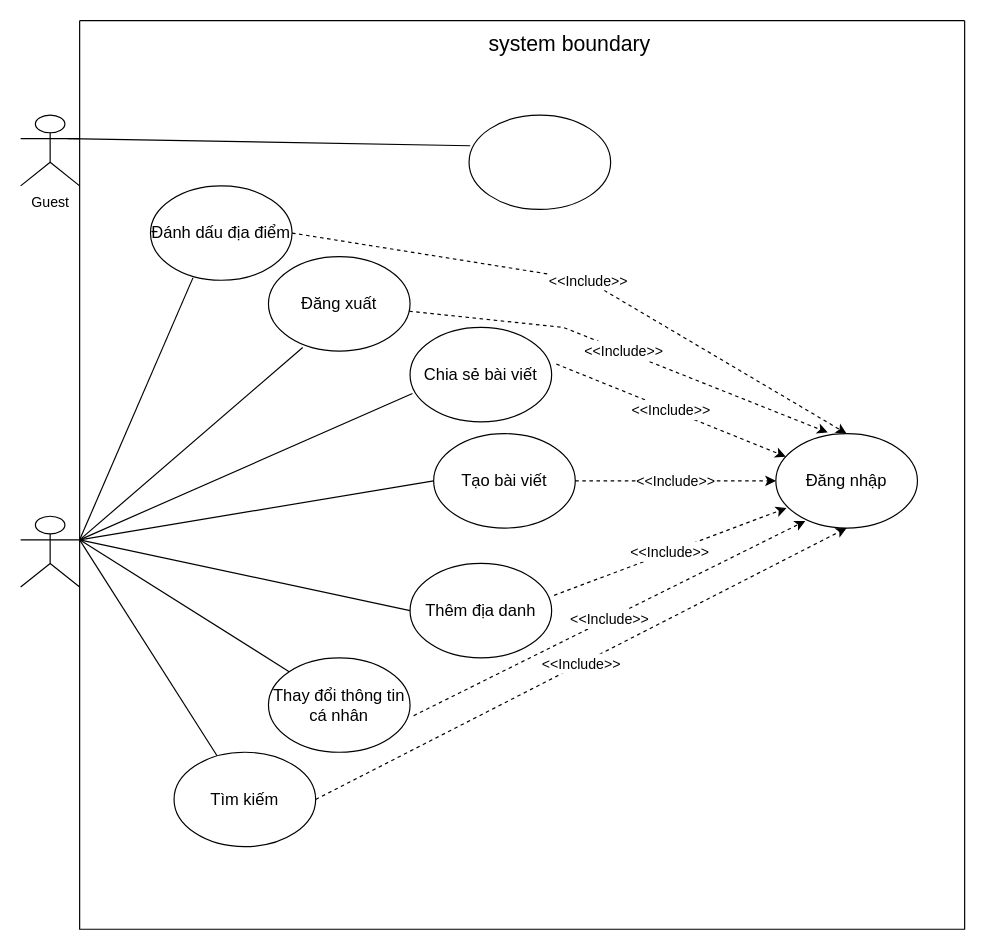
Image size: 985x950. Some labels were removed from this diagram. The box of each missing label's shape, as (x1, y1, x2, y2) in pixels:
User: (19, 515, 80, 587)
Đăng ký: (468, 114, 611, 209)
